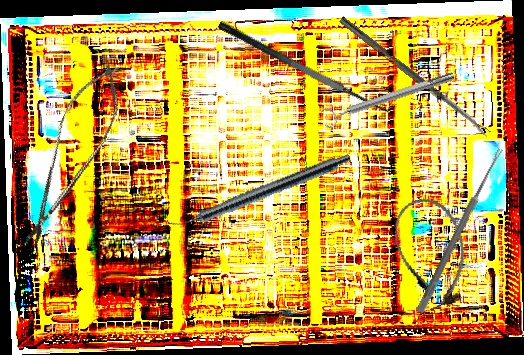Cannula: (385, 190, 479, 316)
Fixation Ring: (319, 66, 458, 130)
Handpiece: (166, 147, 353, 237)
Micro Scissor: (8, 53, 136, 259)
Spatula Surgical: (216, 5, 399, 124)
Surgical Spoon: (338, 16, 491, 138), (416, 146, 504, 315)
